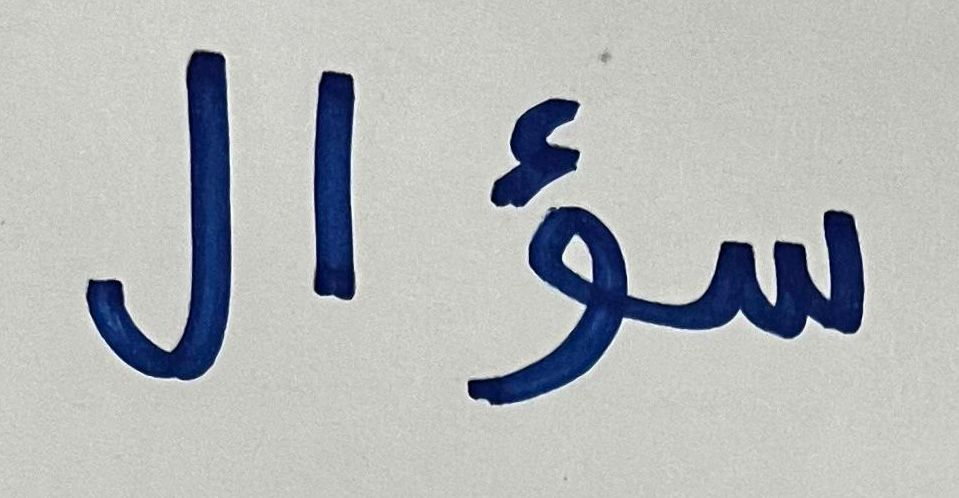alef: (267, 24, 411, 380)
lam: (48, 9, 257, 413)
seen: (662, 159, 931, 413)
waw: (430, 68, 647, 441)
